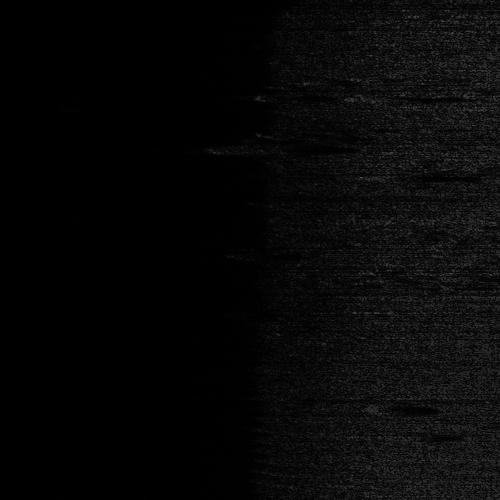rock: (345, 94, 408, 99), (372, 173, 435, 178), (377, 403, 408, 412)
shadow: (393, 403, 457, 412), (377, 94, 476, 99), (404, 173, 494, 178)
